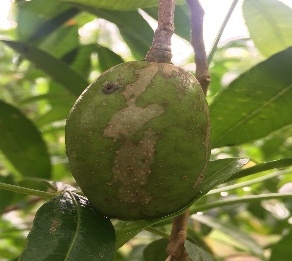Coc: (65, 60, 212, 221)
